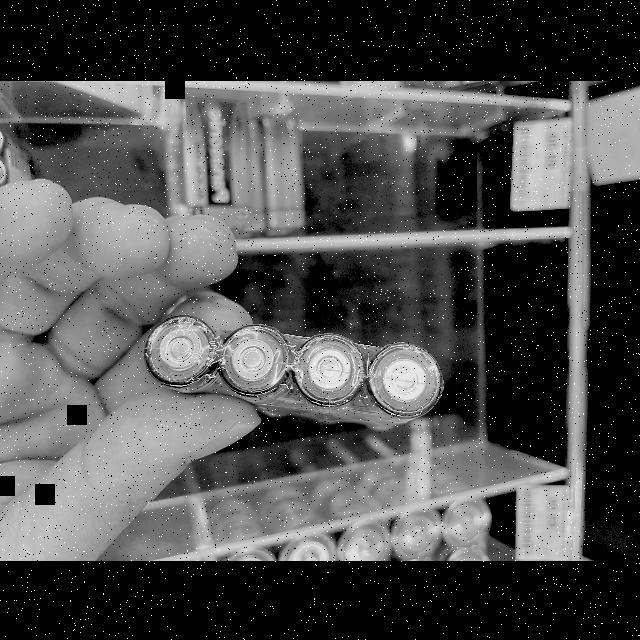battery: (347, 337, 444, 442), (214, 322, 297, 417), (286, 328, 367, 423), (143, 309, 224, 397)
